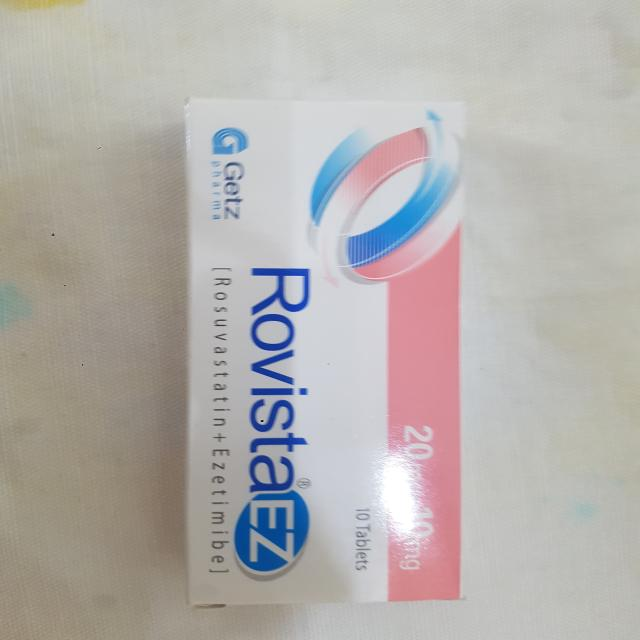electronic: (183, 97, 466, 606)
